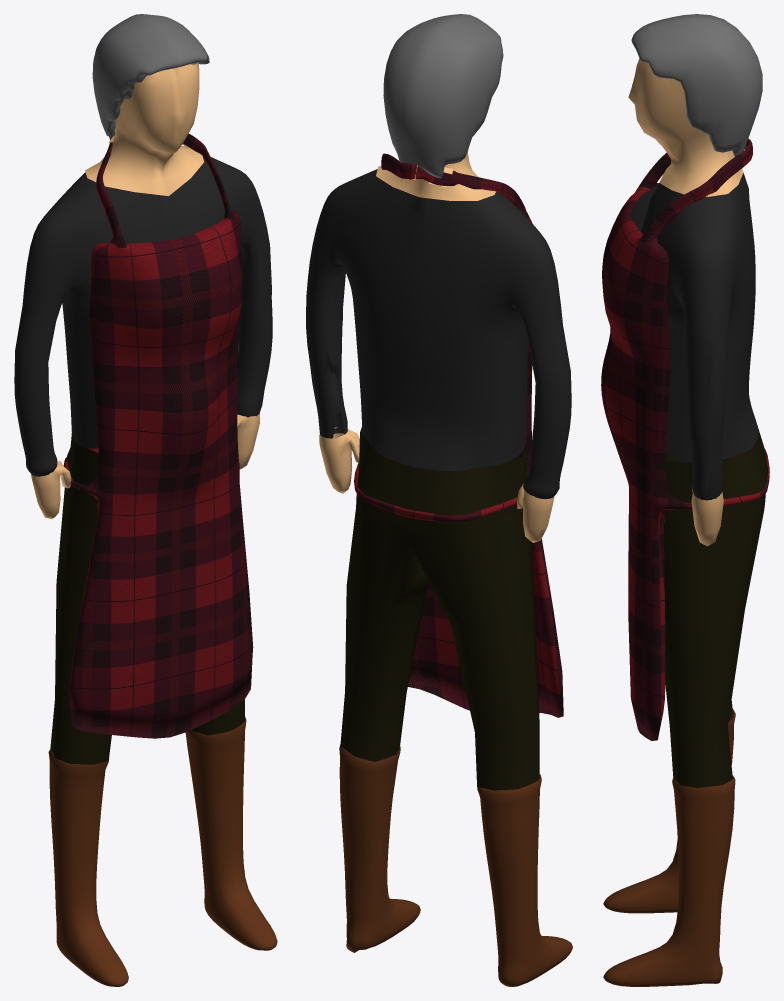
The model's file is Josefina_Esparza.fbx.
3 views of the same model, side by side, from view 1: azimuth 30°, elevation 25°; view 2: azimuth 150°, elevation 25°; view 3: azimuth 270°, elevation 25° (orthographic). The views are drawn at different scales.
Visible parts, largest first — view 1: Botas; view 2: Botas; view 3: Botas.
Part boxes in pixels (box(x1,y1,x2,y2)): Botas: box(14, 14, 277, 986); Botas: box(306, 14, 572, 986); Botas: box(601, 14, 769, 986).
Size of the model in its own units: 30.96 by 107 by 17.61.
6 materials, 1 textured.
